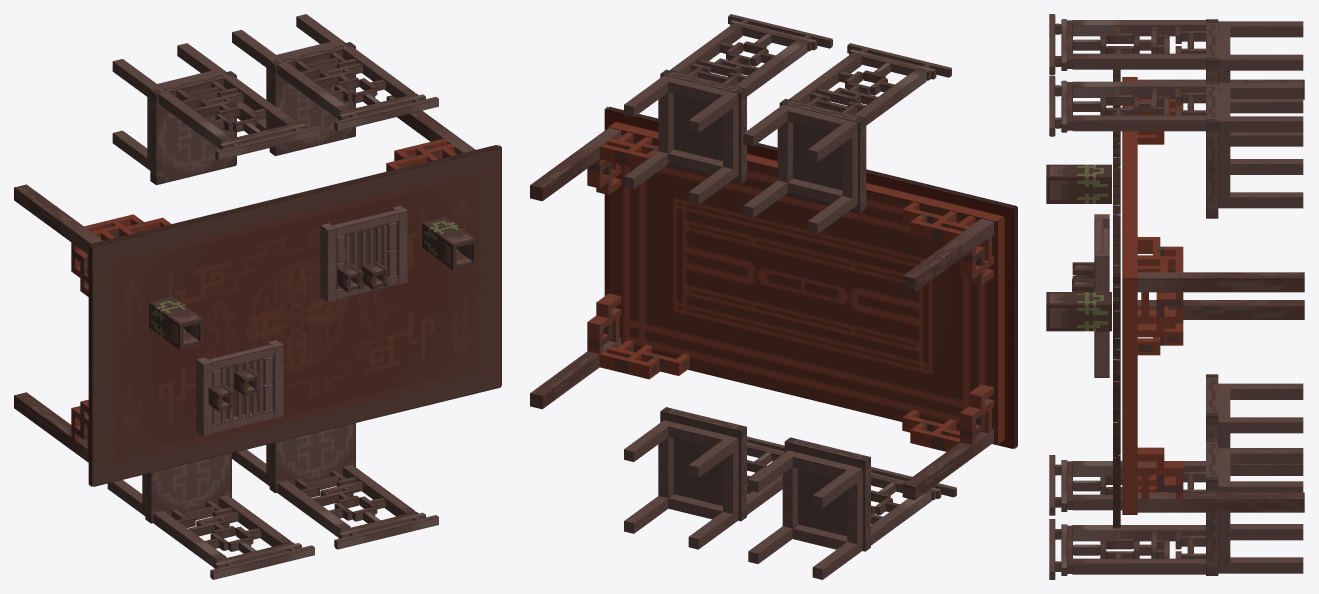
File: traditional_square_table_set.fbx
The picture shows the model from 3 angles, left to right: view 1: azimuth 30°, elevation 25°; view 2: azimuth 150°, elevation 25°; view 3: azimuth 270°, elevation 25°; orthographic projection. The views are drawn at different scales.
Parts seen in each view (by area): view 1: cube_22, cube_107, cube_173, cube_140, cube_70, cube_1, cube_0, cube_141, cube_71, cube_174, cube_108, cube_199 (+26 smaller); view 2: cube_23, cube_22, cube_140, cube_173, cube_107, cube_70, cube_1, cube_0, cube_3, cube_2, cube_71, cube_108 (+41 smaller); view 3: cube_23, cube_3, cube_2, cube_22, cube_0, cube_72, cube_109, cube_142, cube_71, cube_108, cube_141, cube_70 (+43 smaller).
Part boxes in pixels (box(x1,y1,x2,y2)): cube_22: box(88, 145, 501, 486); cube_107: box(150, 71, 236, 185); cube_173: box(145, 453, 231, 523); cube_140: box(269, 423, 355, 492); cube_70: box(269, 42, 355, 155); cube_1: box(14, 184, 102, 254); cube_0: box(14, 392, 88, 462); cube_141: box(277, 480, 350, 537); cube_71: box(277, 62, 350, 119); cube_174: box(153, 511, 226, 567); cube_108: box(158, 91, 231, 148); cube_199: box(320, 223, 336, 301); cube_23: box(608, 122, 1004, 445); cube_22: box(604, 106, 1017, 448); cube_140: box(660, 407, 746, 521); cube_173: box(784, 437, 870, 551); cube_107: box(779, 98, 866, 212); cube_70: box(660, 69, 746, 183); cube_1: box(902, 218, 993, 292); cube_0: box(902, 429, 993, 499); cube_3: box(530, 127, 621, 201); cube_2: box(530, 338, 621, 409); cube_71: box(735, 39, 807, 96); cube_108: box(854, 69, 926, 125); cube_23: box(1122, 77, 1137, 514); cube_3: box(1137, 272, 1304, 292); cube_2: box(1137, 492, 1304, 512); cube_22: box(1113, 69, 1120, 528); cube_0: box(1137, 300, 1304, 319); cube_72: box(1072, 115, 1205, 131); cube_109: box(1072, 53, 1205, 69); cube_142: box(1072, 558, 1205, 574); cube_71: box(1072, 81, 1205, 97); cube_108: box(1072, 20, 1205, 36); cube_141: box(1072, 525, 1205, 541); cube_70: box(1206, 81, 1218, 218).
Size of the model in its own units: 2.06 by 2.06 by 1.06.
9 materials, 9 textured.
